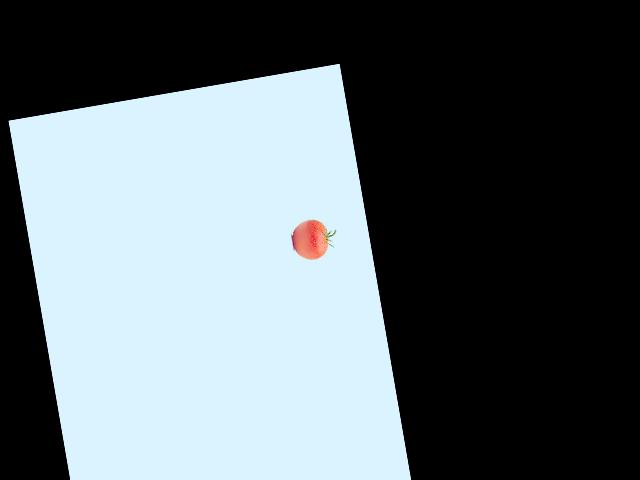tomato: (290, 217, 331, 263)
